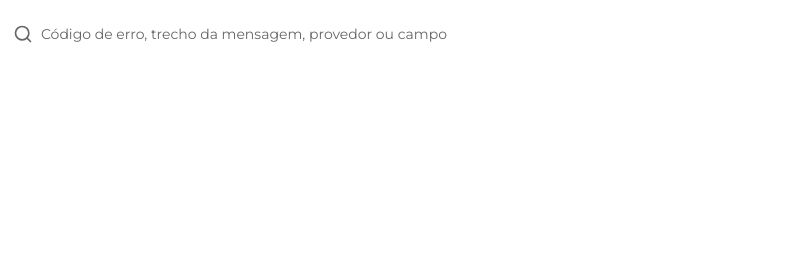
BuscaHeroComPreview › pré-visualiza até três itens por grupo, com link para a URL do item
Type "e01" into the search field at (398, 34), box [41,13,755,55]
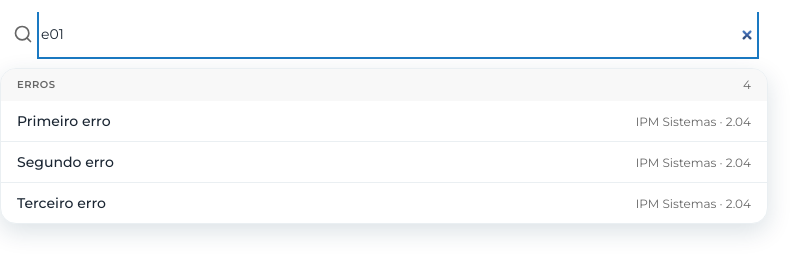
Check: the link "Terceiro erro IPM Sistemas · 2.04" is shown, box [17,194,751,212]
